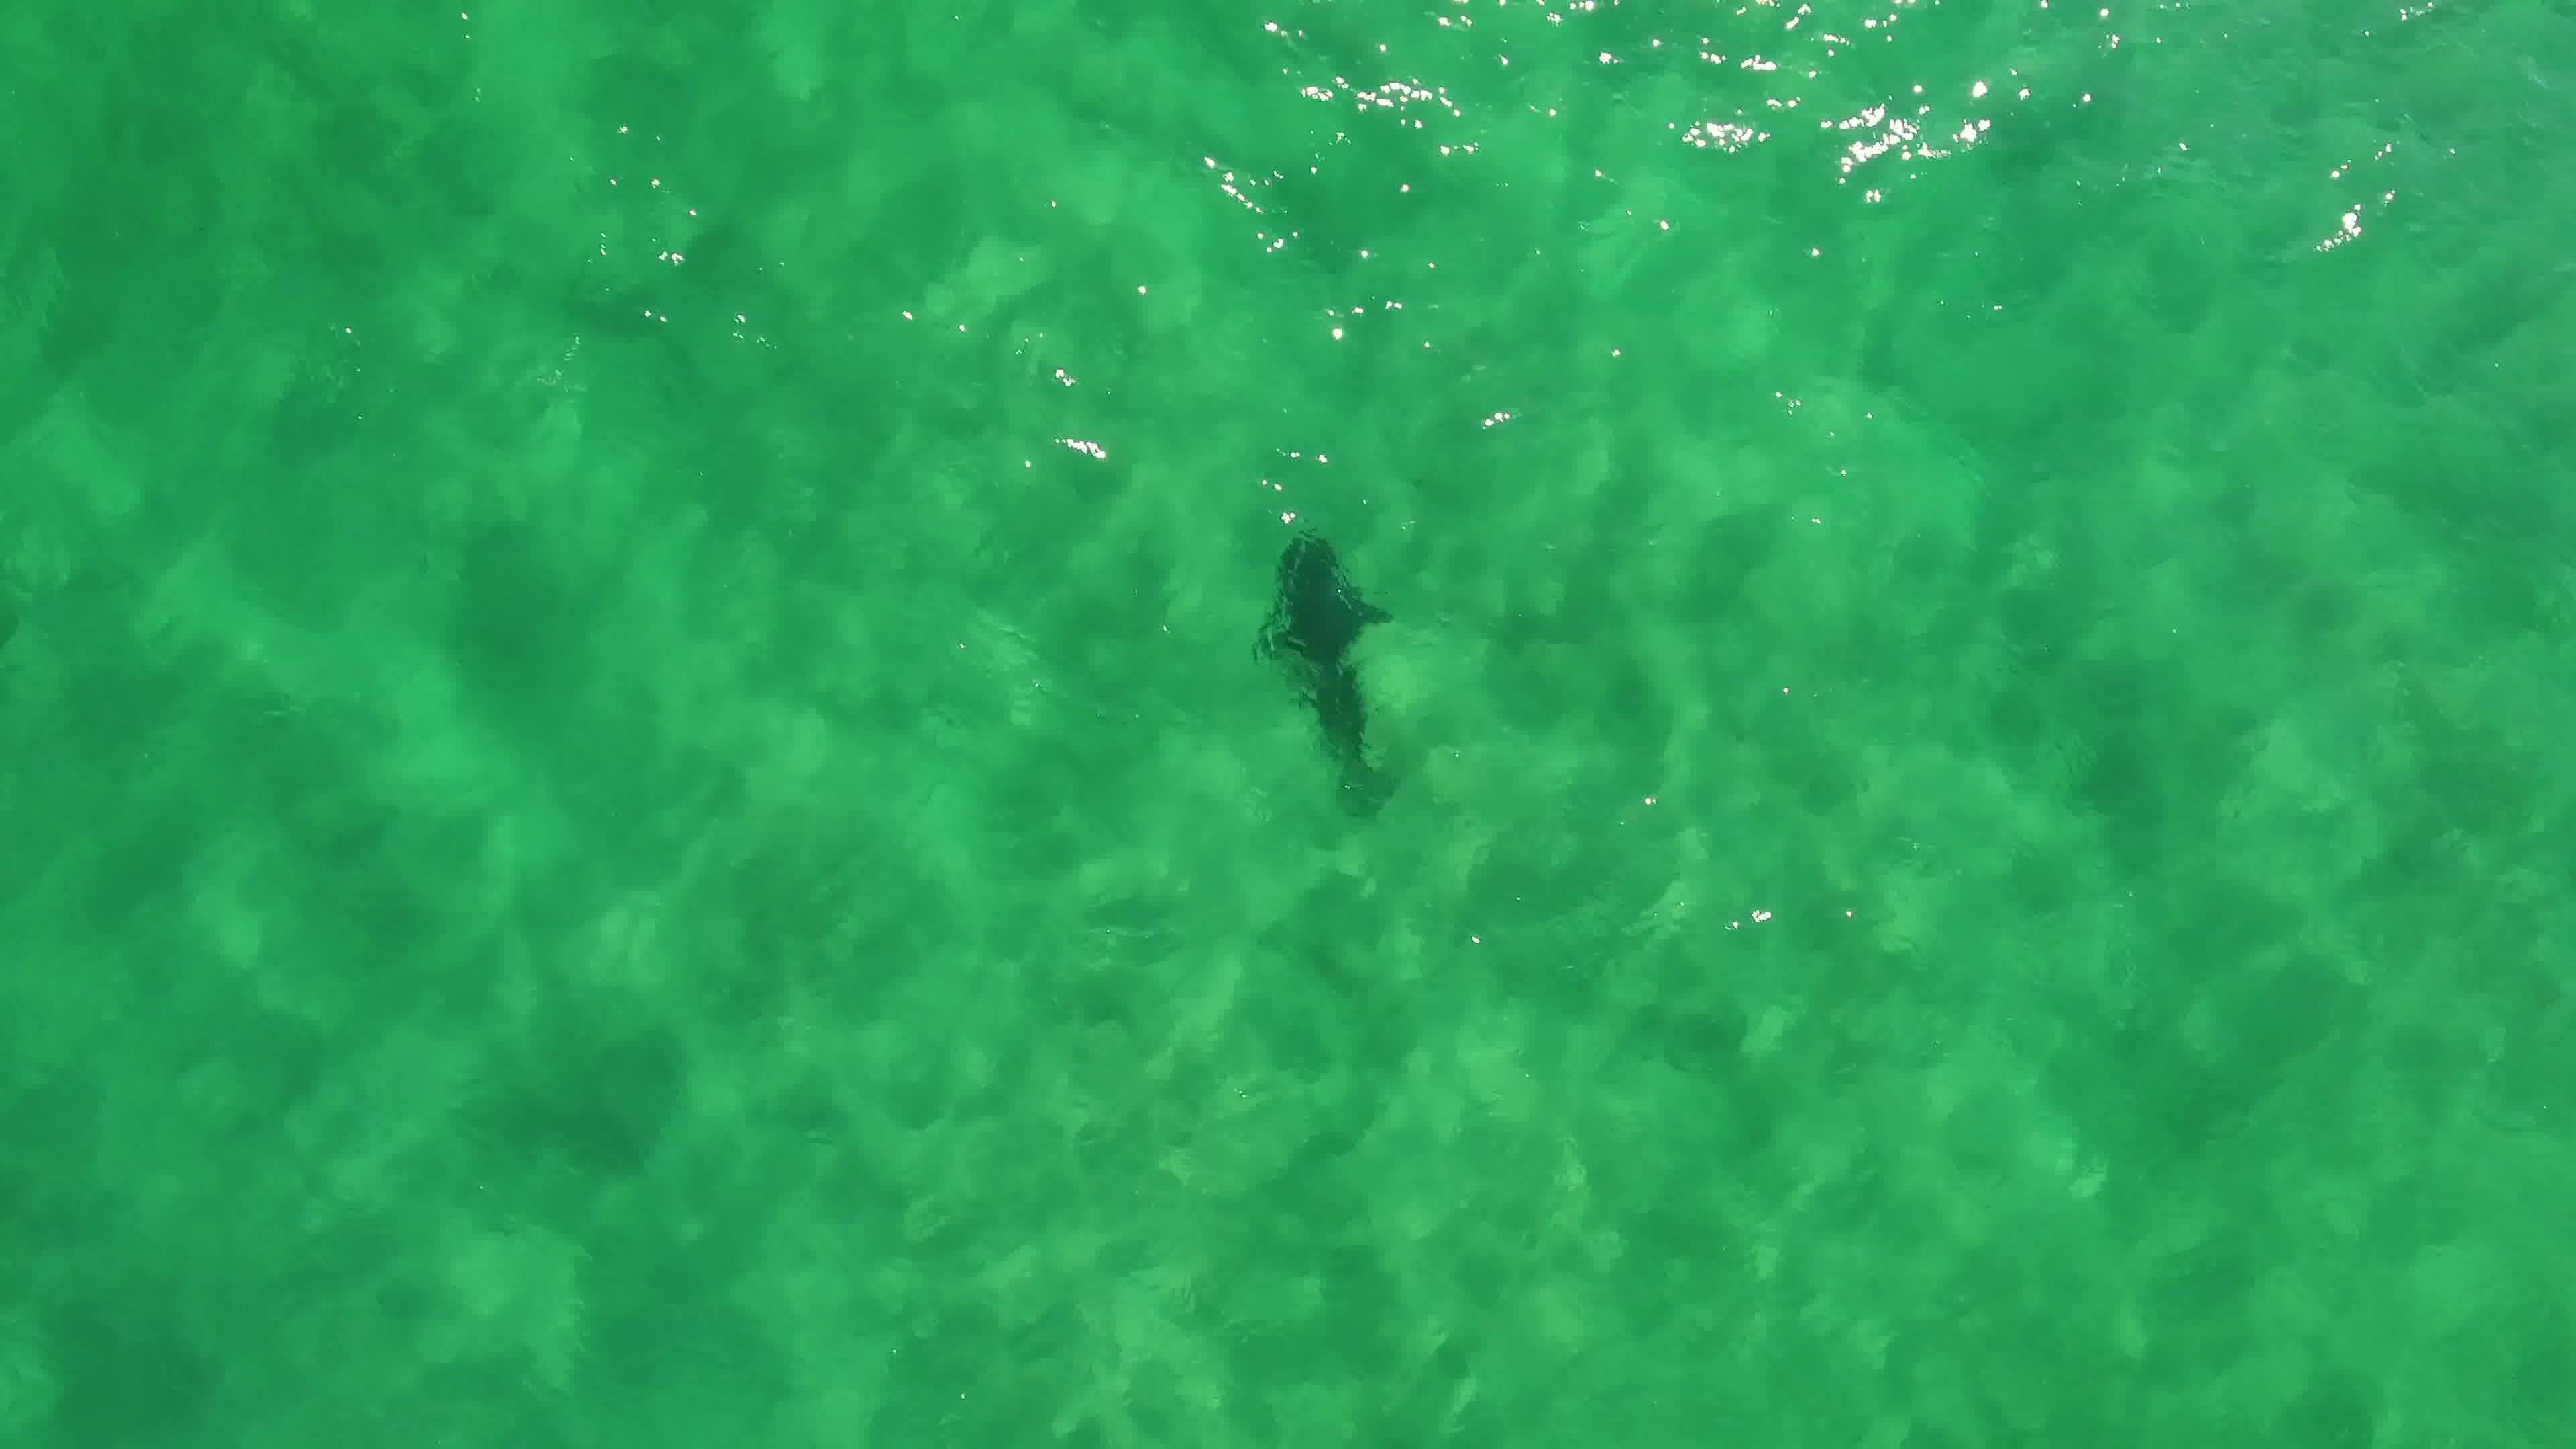shark: (1251, 529, 1415, 805)
